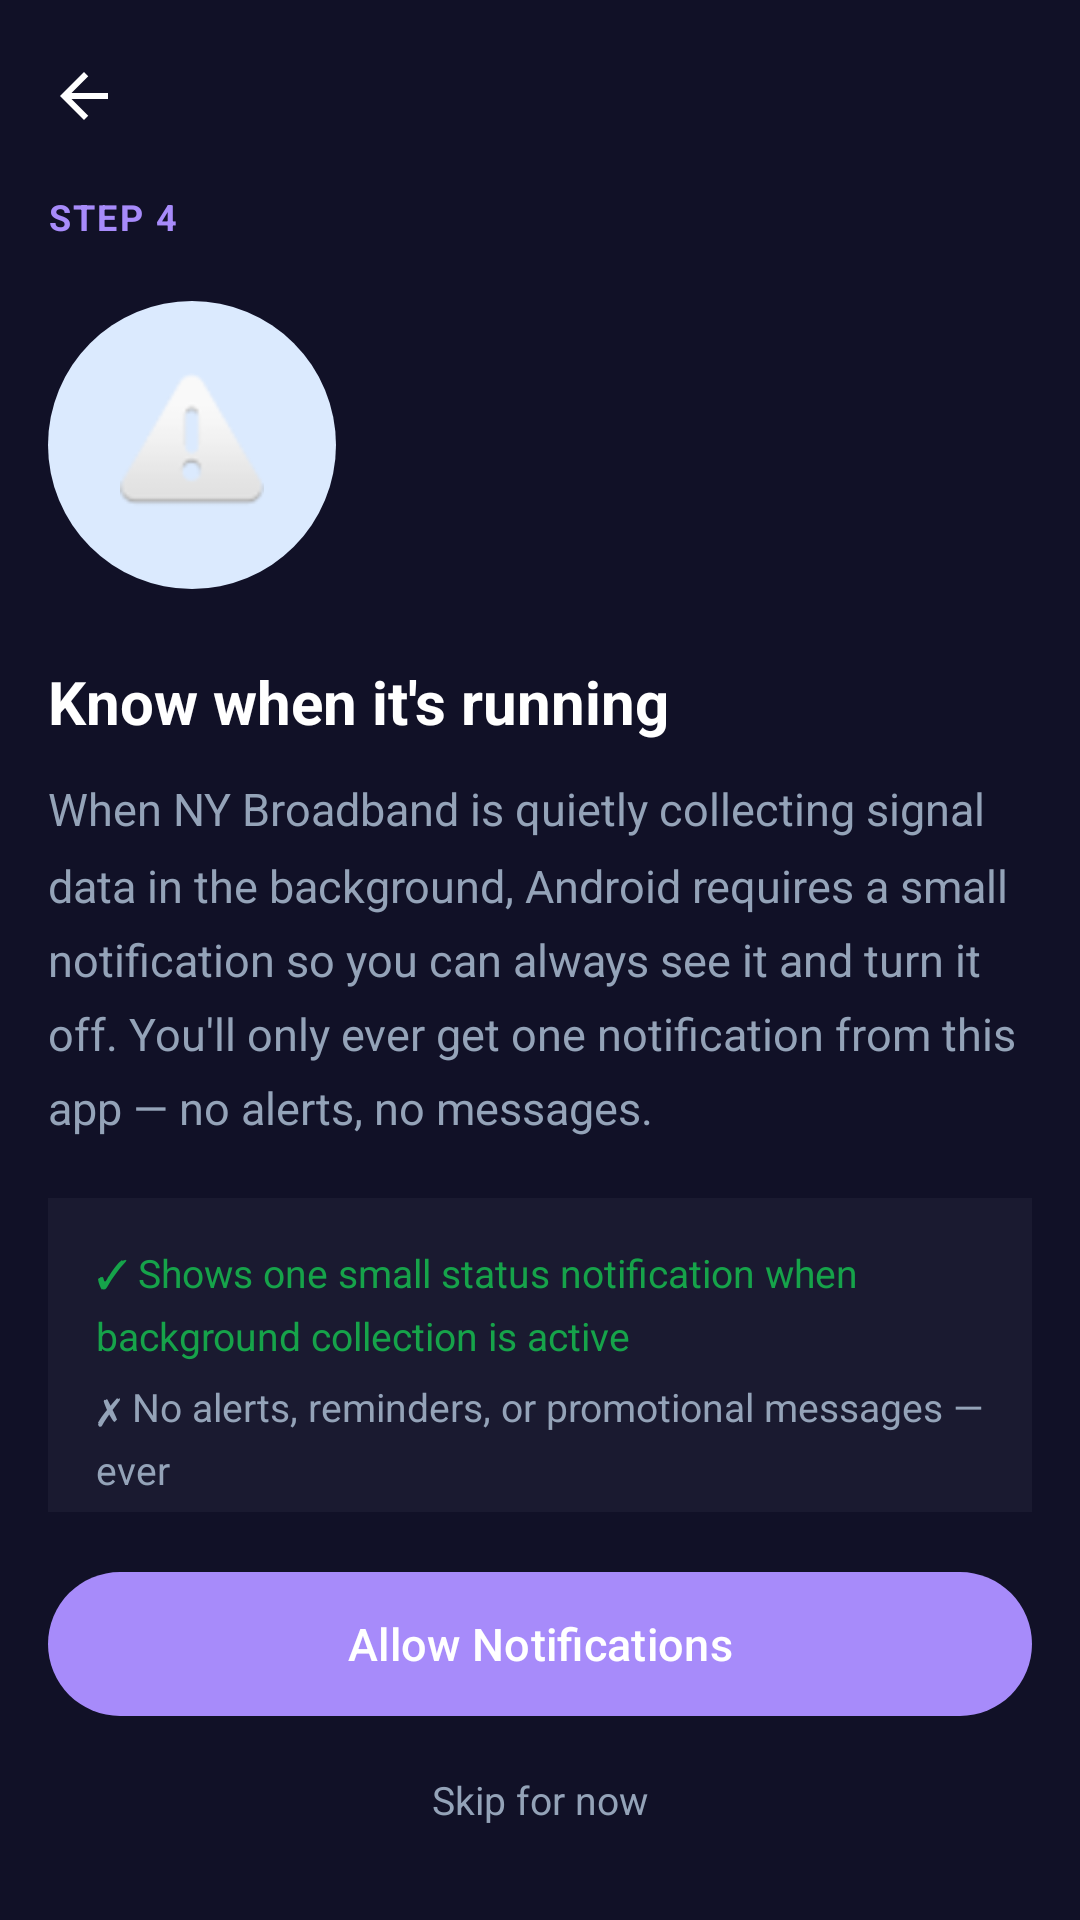

Locate icon controls on the screen. Image size 1080w x 1920h, boxes as (x1, y1, x2, y2).
alert: (48, 301, 336, 589)
